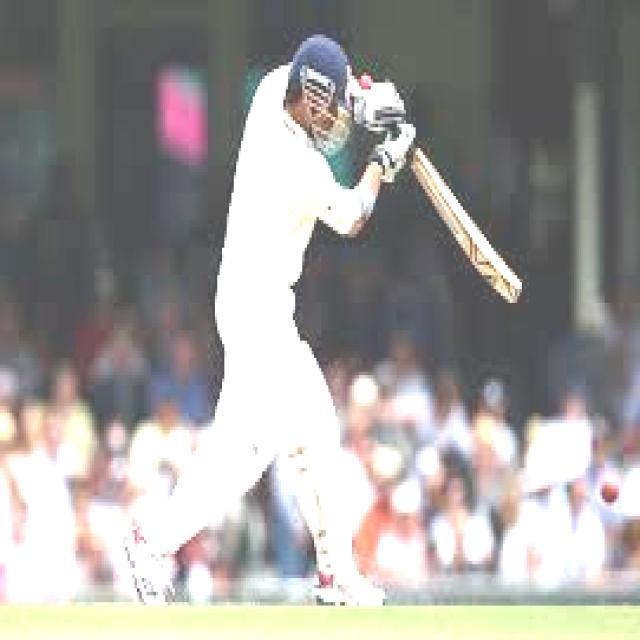bat: (395, 148, 538, 314)
toe: (508, 278, 521, 307)
